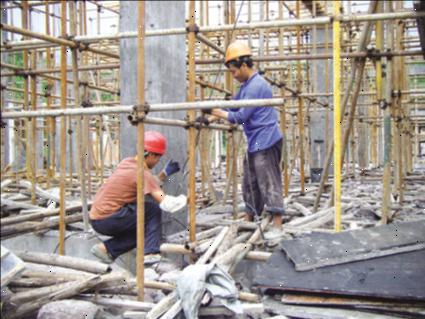helmet: (221, 39, 252, 64), (138, 130, 168, 154)
no_wear: (90, 157, 159, 218), (227, 74, 282, 149)
